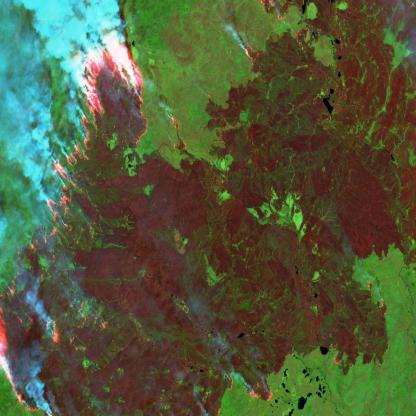fire: (0, 0, 155, 416), (218, 362, 278, 407), (165, 110, 190, 158), (240, 38, 266, 75)
